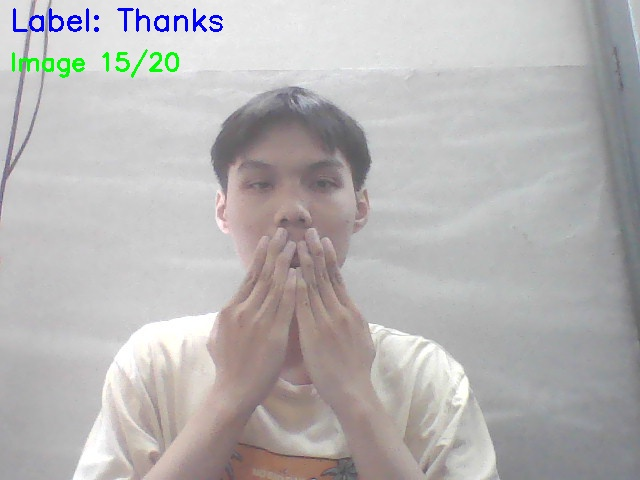Thanks: (203, 221, 388, 433)
